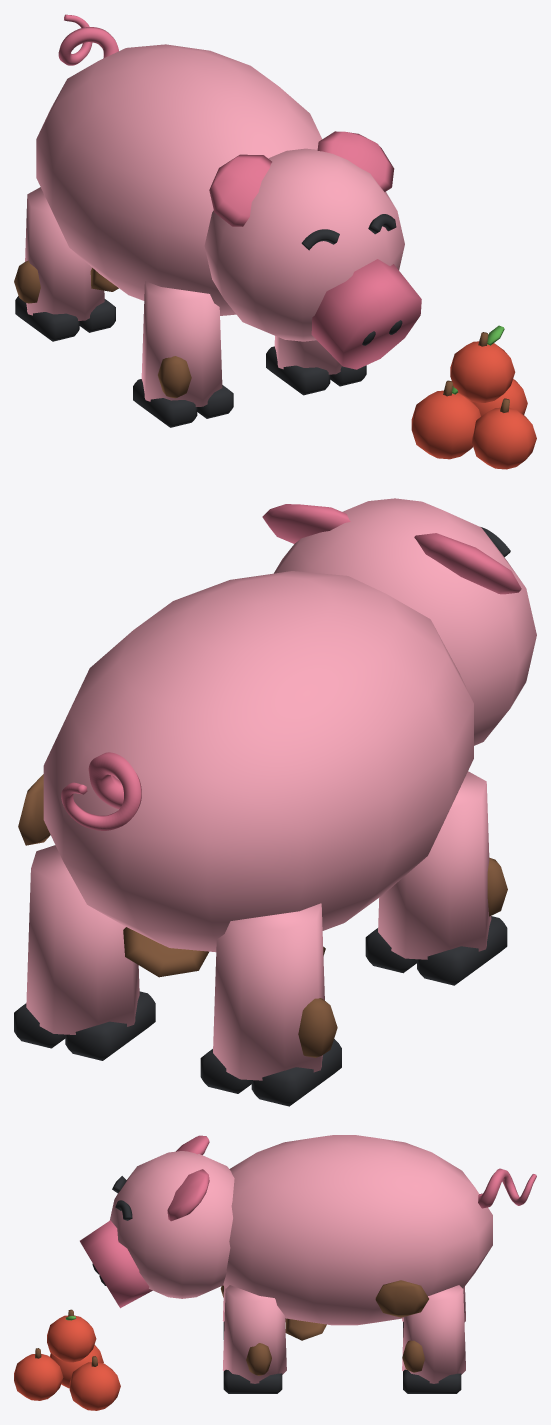
Rendered from chunky-pig-with-apples.glb.
The picture shows the model from 3 angles, top to bottom: view 1: azimuth 30°, elevation 25°; view 2: azimuth 150°, elevation 25°; view 3: azimuth 270°, elevation 25°; orthographic projection. The views are drawn at different scales.
Parts seen in each view (by area): view 1: Pig; view 2: Pig; view 3: Pig.
Boxes of the visible parts, bbox=[...] form: Pig: bbox=[14, 14, 536, 469]; Pig: bbox=[14, 498, 536, 1106]; Pig: bbox=[14, 1135, 536, 1410].
Bounding box in the file's own units: 3.18 × 3 × 6.65.
